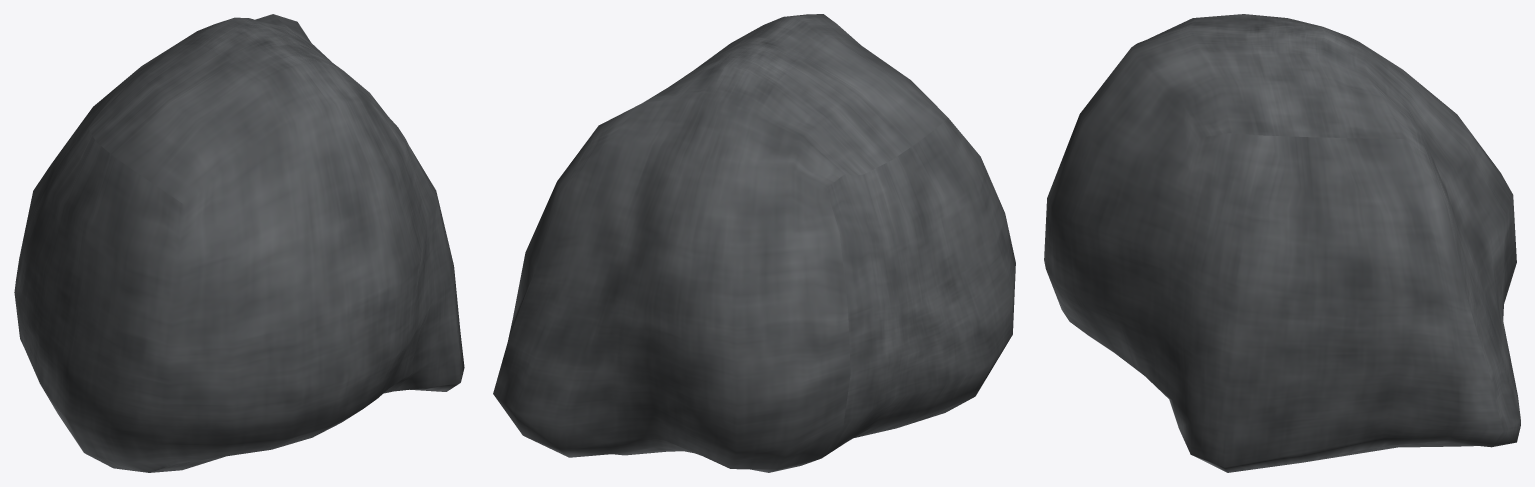
File: Kei 2.fbx
3 views of the same model, side by side, from view 1: azimuth 30°, elevation 25°; view 2: azimuth 150°, elevation 25°; view 3: azimuth 270°, elevation 25° (orthographic). The views are drawn at different scales.
Visible parts, largest first — view 1: pCube3; view 2: pCube3; view 3: pCube3.
Part boxes in pixels (x1=…): pCube3: x1=14, y1=14, x2=464, y2=472; pCube3: x1=493, y1=14, x2=1015, y2=472; pCube3: x1=1044, y1=14, x2=1520, y2=472.
Size of the model in its own units: 7.8 by 7.1 by 8.18.
1 material, 1 textured.
